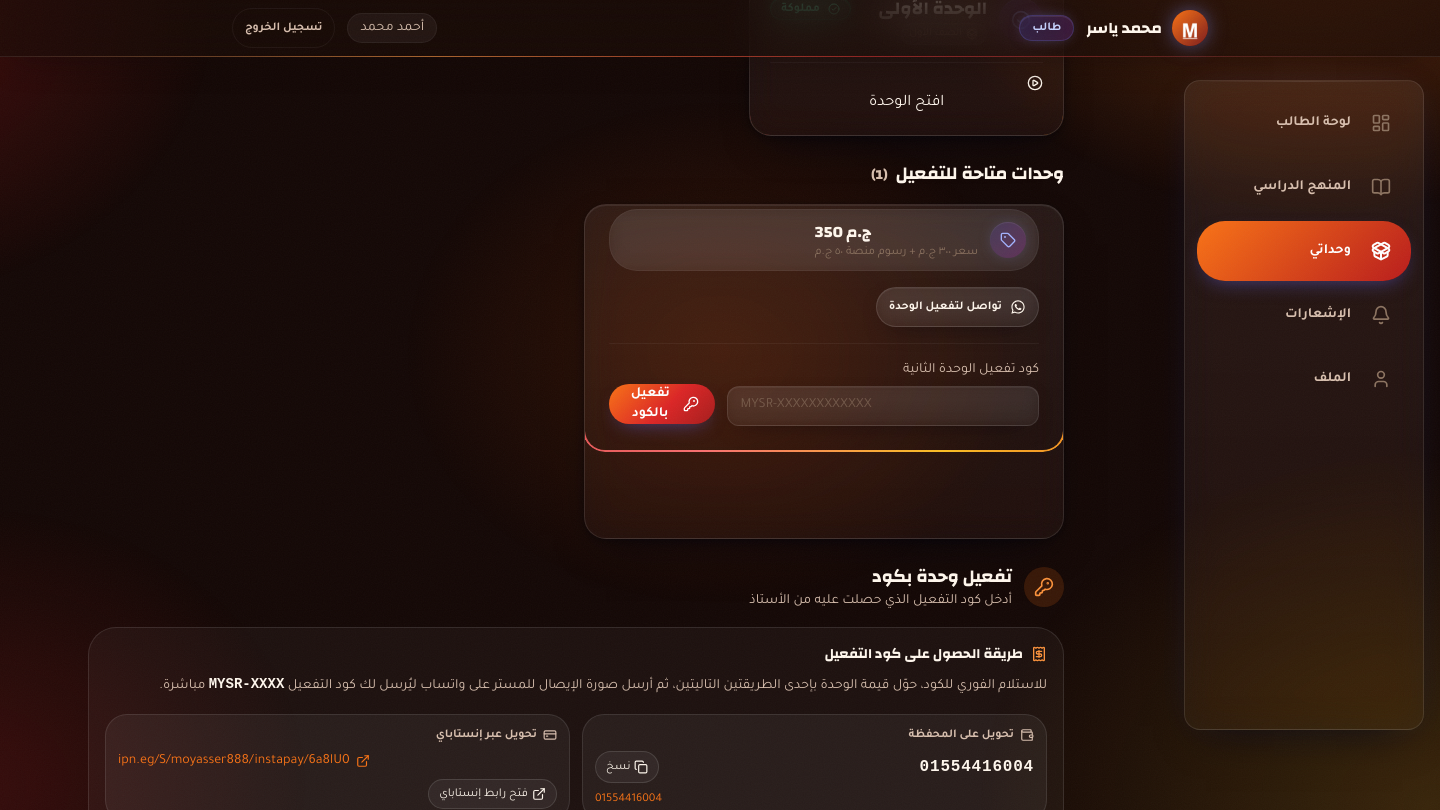
Test: UnitsPage › redeems a code directly from a locked unit card
(page scrolled)
Type "MYSR-ABCD-EFGH-JKLM" into the field labelled "كود تفعيل الوحدة الثانية" at (883, 406), box [728,386,1039,426]
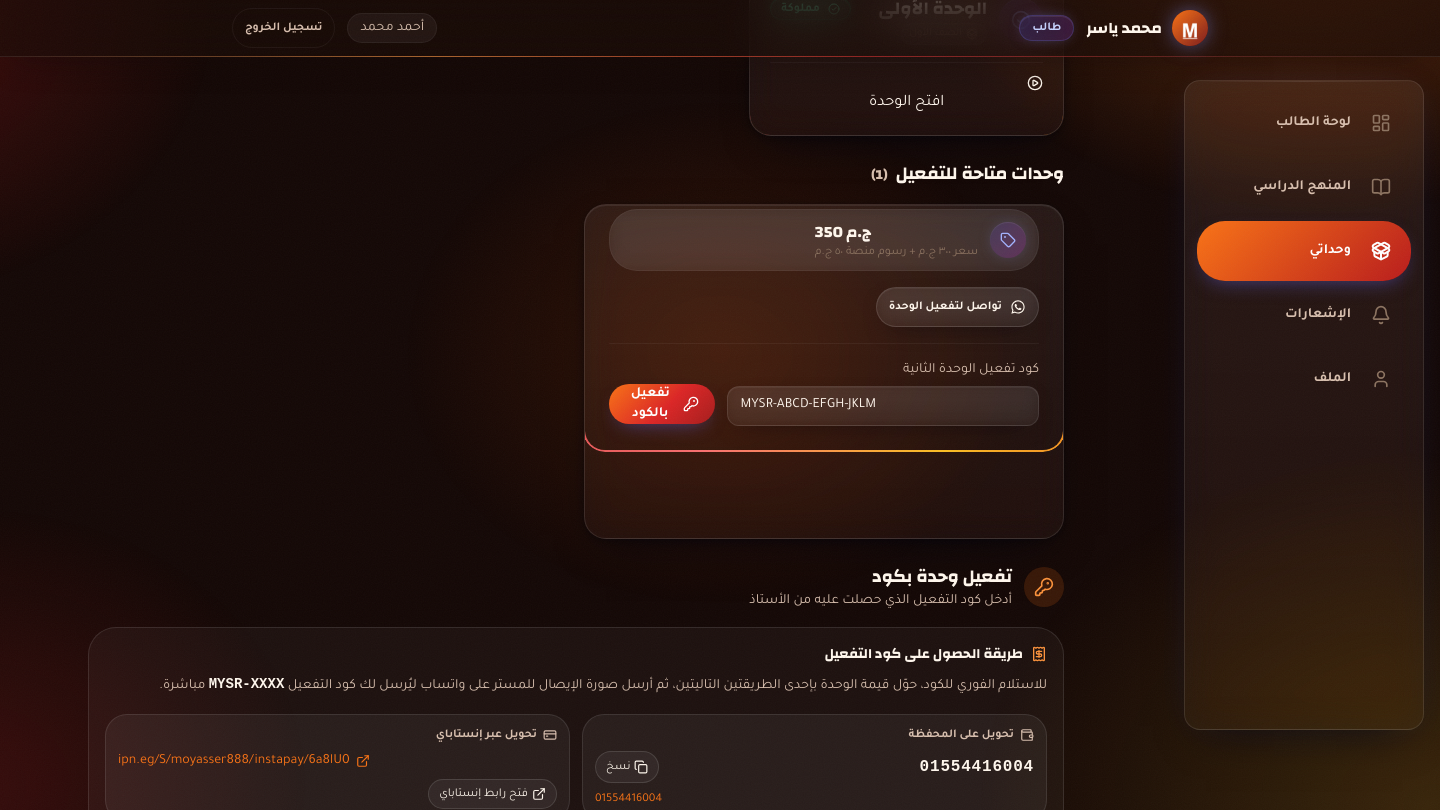
Click the button "تفعيل بالكود" at (662, 404), box [609,384,716,424]
(page scrolled)
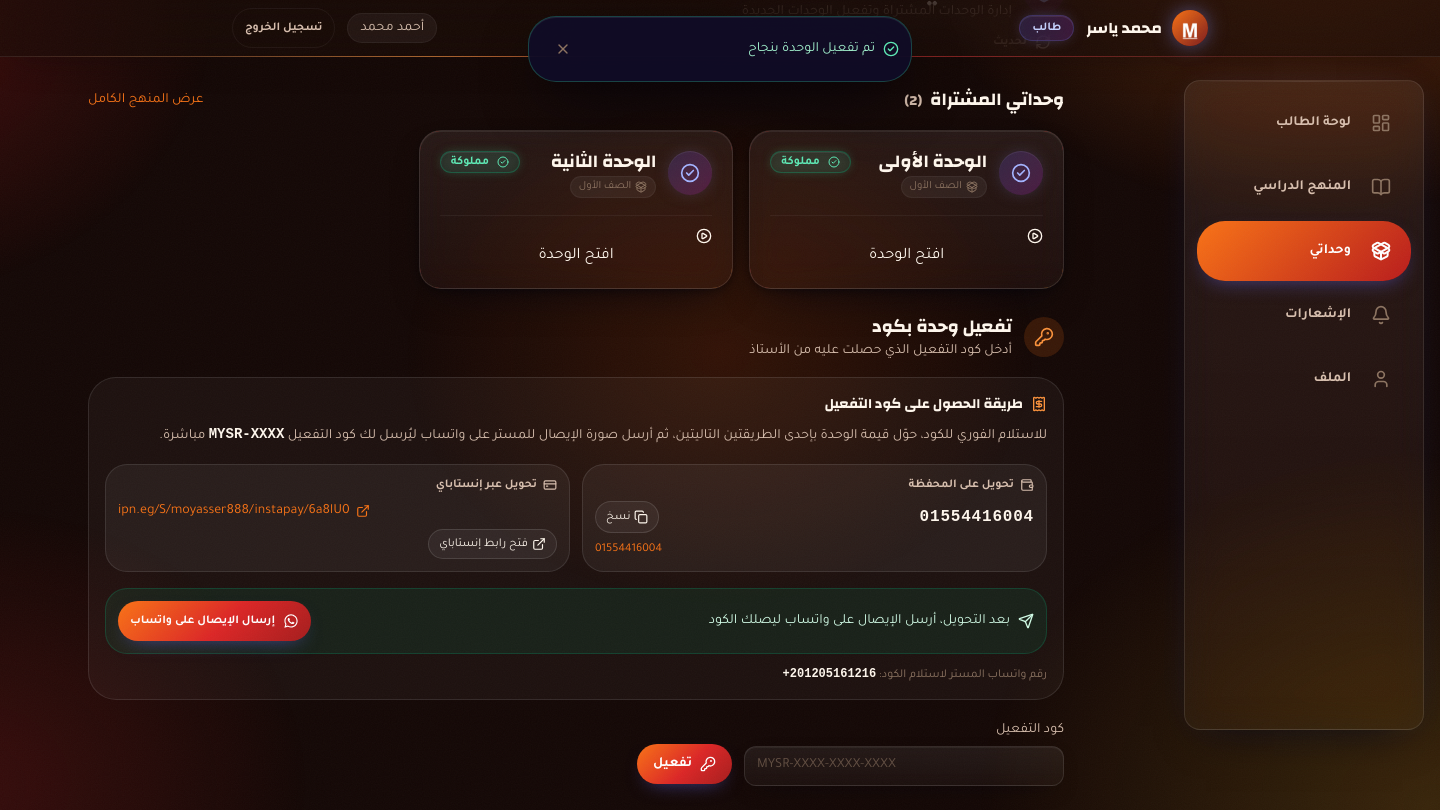
Result: the text "تم تفعيل الوحدة بنجاح" is shown at [748,42,875,56]
Result: the button "افتح الوحدة" below "الوحدة الثانية" is shown at [440,228,712,268]
